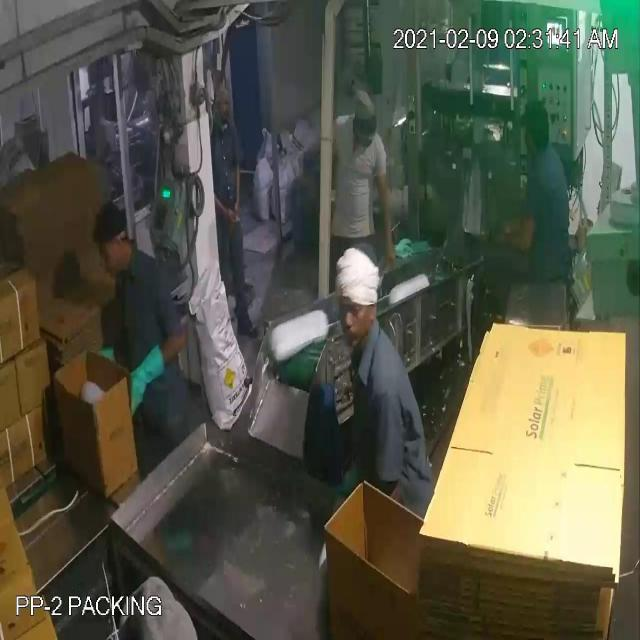No_Gloves: (30, 72, 515, 368)
